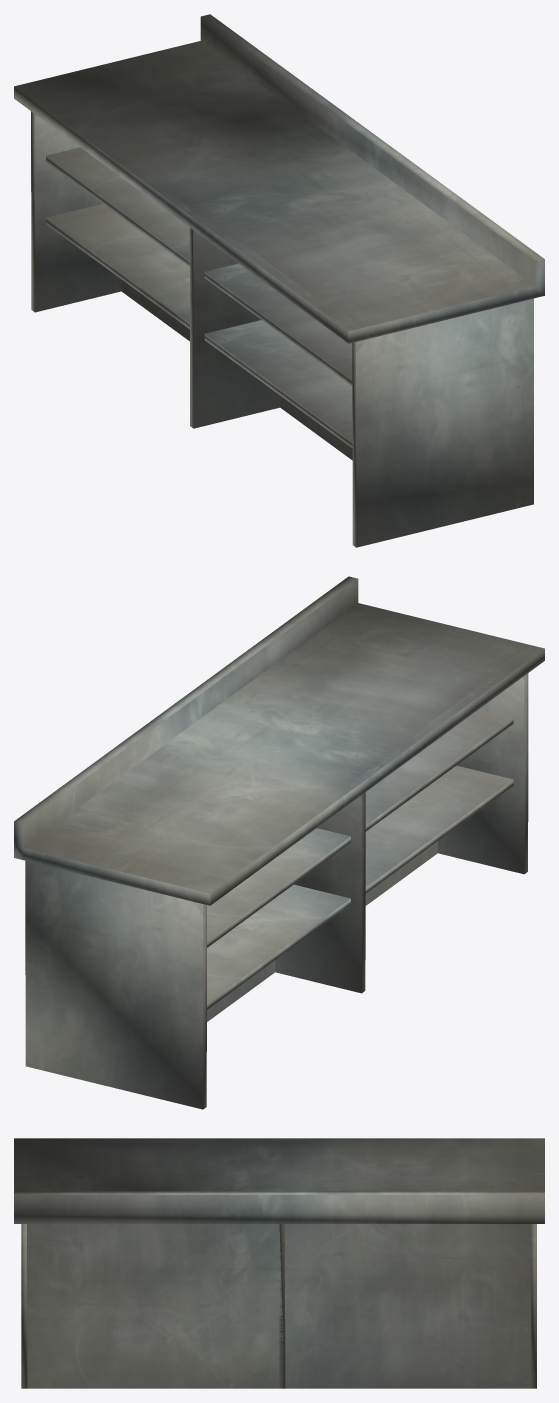
Rendered from FryableShelf.fbx.
3 views of the same model, one above another, from view 1: azimuth 30°, elevation 25°; view 2: azimuth 150°, elevation 25°; view 3: azimuth 270°, elevation 25° (orthographic). The views are drawn at different scales.
Parts seen in each view (by area): view 1: Shelf_fd.006; view 2: Shelf_fd.006; view 3: Shelf_fd.006.
Boxes of the visible parts, box(x1,y1,x2,y2) form: Shelf_fd.006: box(14, 14, 544, 547); Shelf_fd.006: box(14, 576, 544, 1109); Shelf_fd.006: box(14, 1138, 544, 1388).
Size of the model in its own units: 99.14 by 119 by 293.
